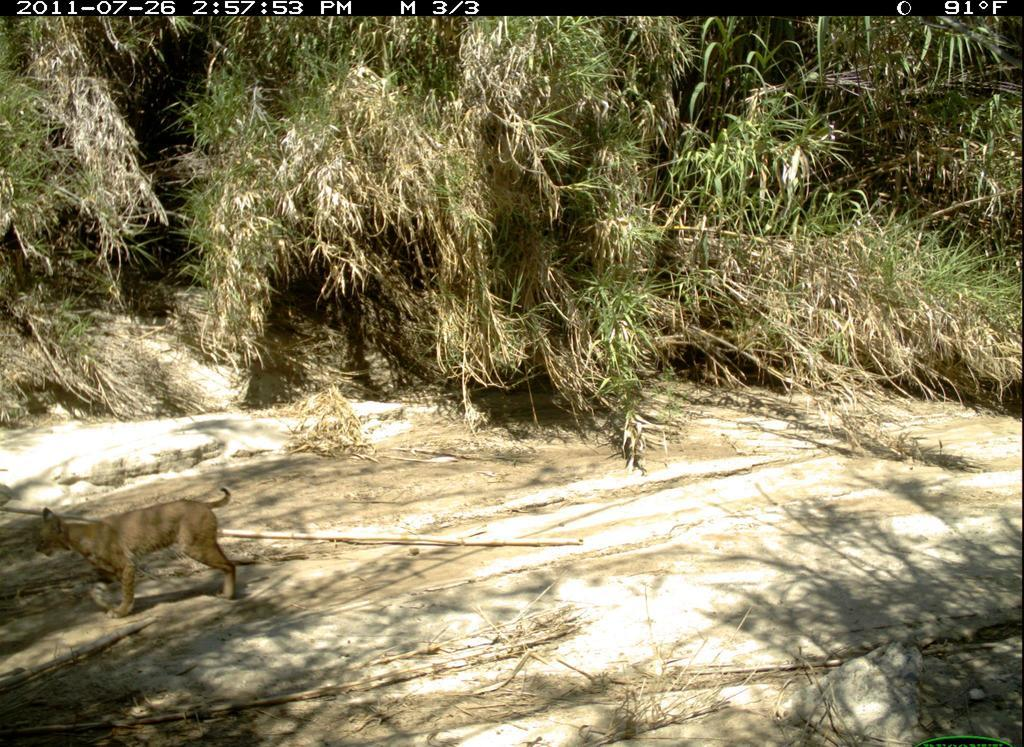bobcat: (26, 492, 263, 629)
